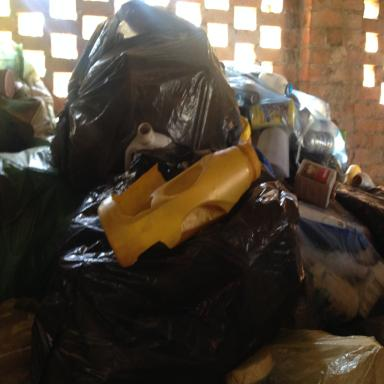plasticbag: (47, 160, 298, 384), (67, 2, 250, 169), (0, 41, 59, 300)
